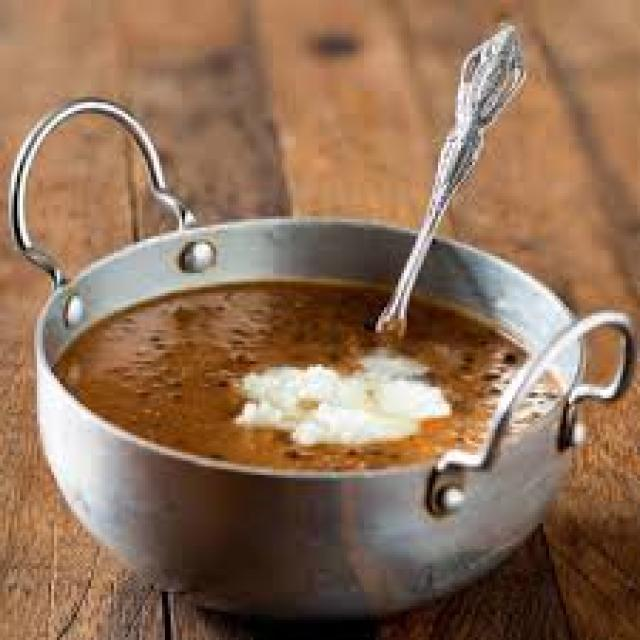dal_makhani: (43, 198, 640, 501)
